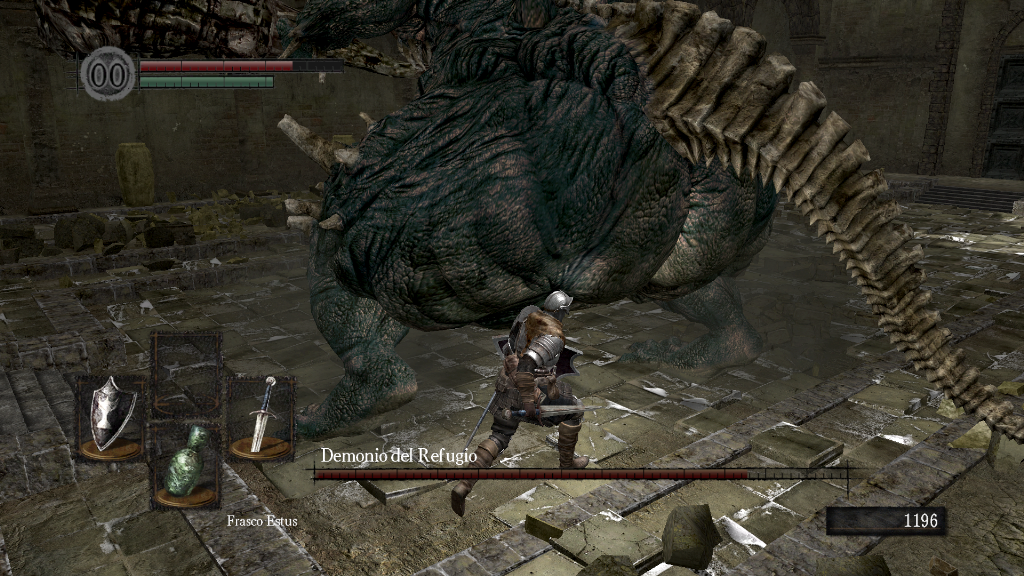asylumDemon: (19, 3, 1023, 449)
bossHP: (314, 469, 847, 479)
health: (138, 58, 343, 71)
humanity: (80, 45, 136, 102)
player: (450, 289, 605, 524)
souls: (825, 506, 945, 536)
stamina: (138, 74, 274, 88)
